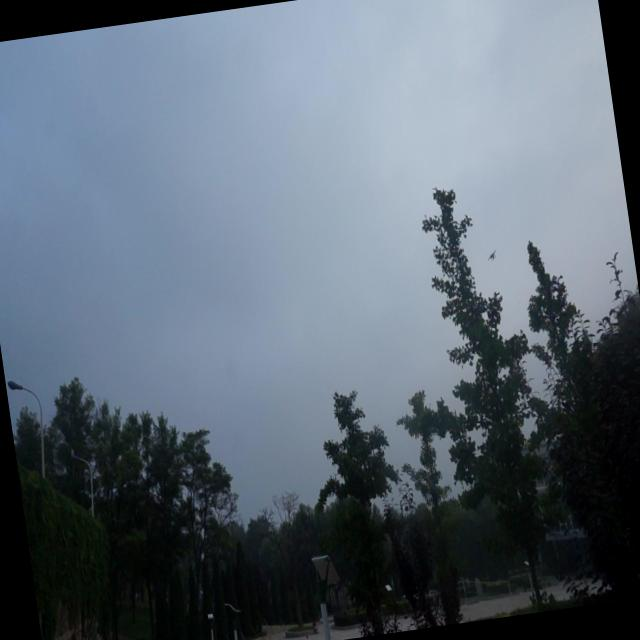drone: (484, 246, 499, 265)
